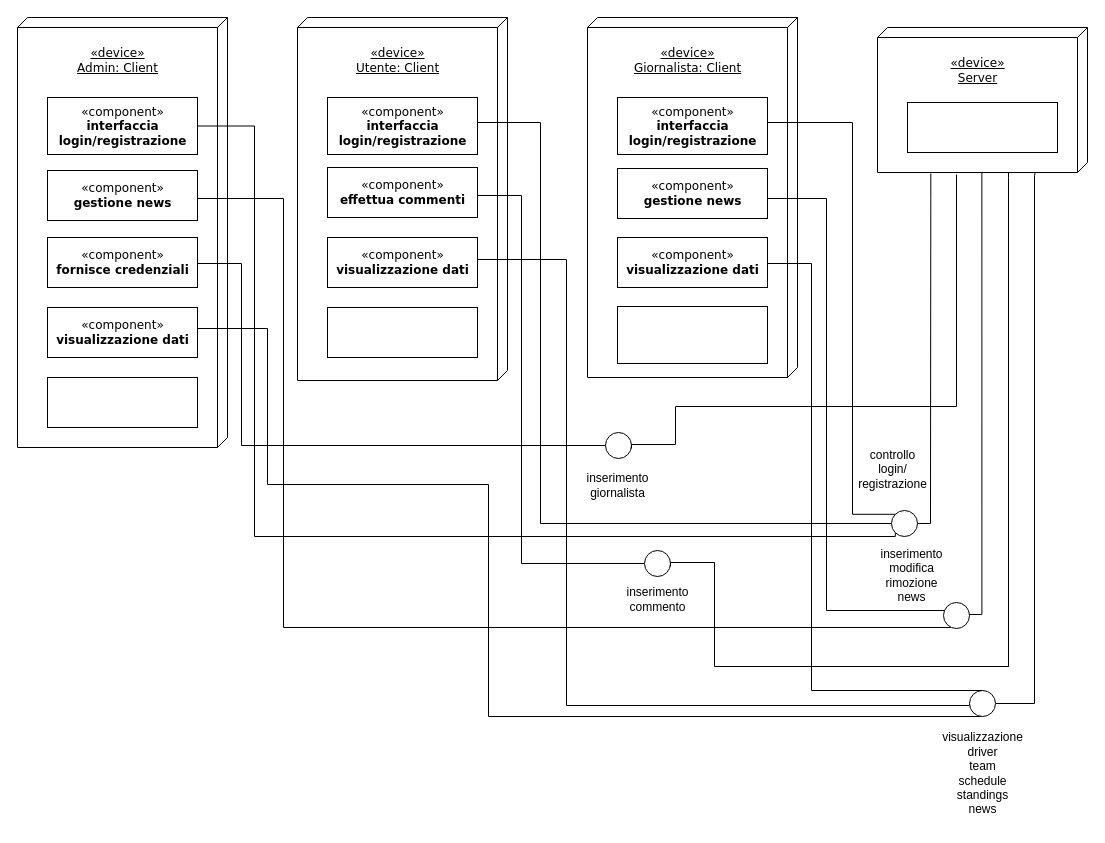
Image size: 1105x843. Some labels were removed from this diagram. The centre of each missing label's shape, as x and y in pixels:
«component» database: point 982,127
«component» interfaccia admin: point 122,402
«component» interfaccia giornalista: point 692,335
«component» interfaccia utente: point 402,332
